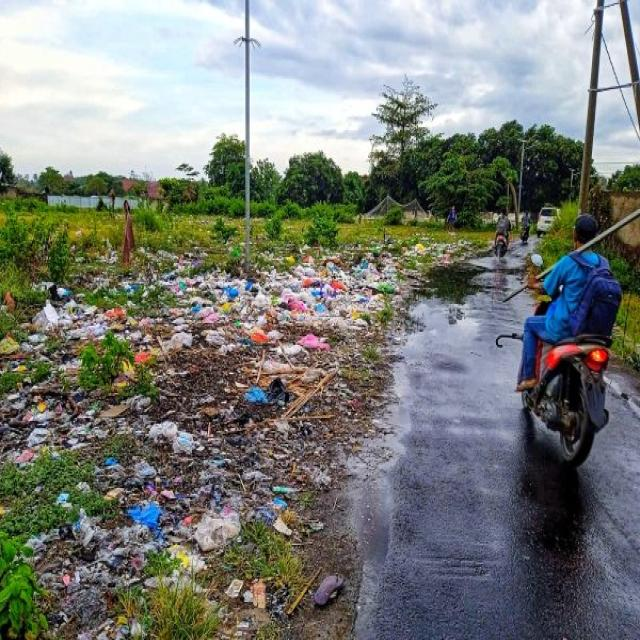trash: (0, 180, 428, 425)
